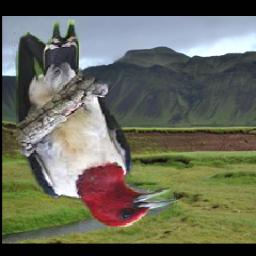Woodpecker: (10, 20, 183, 228)
